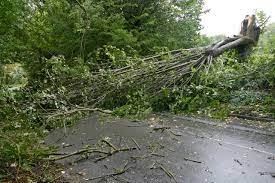obstacle: (17, 60, 213, 126)
